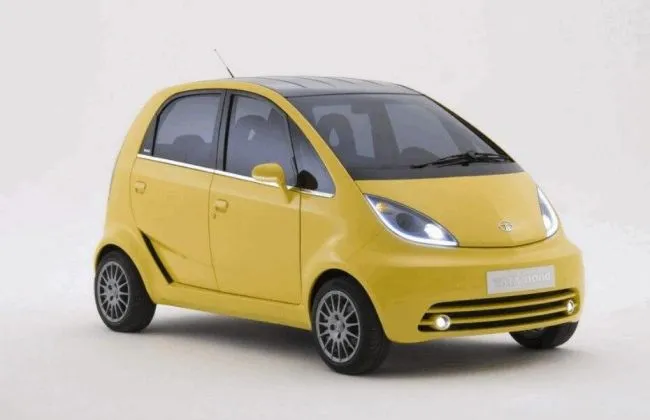Nano: (90, 77, 585, 376)
